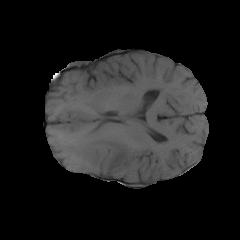glioma: (75, 130, 132, 174)
